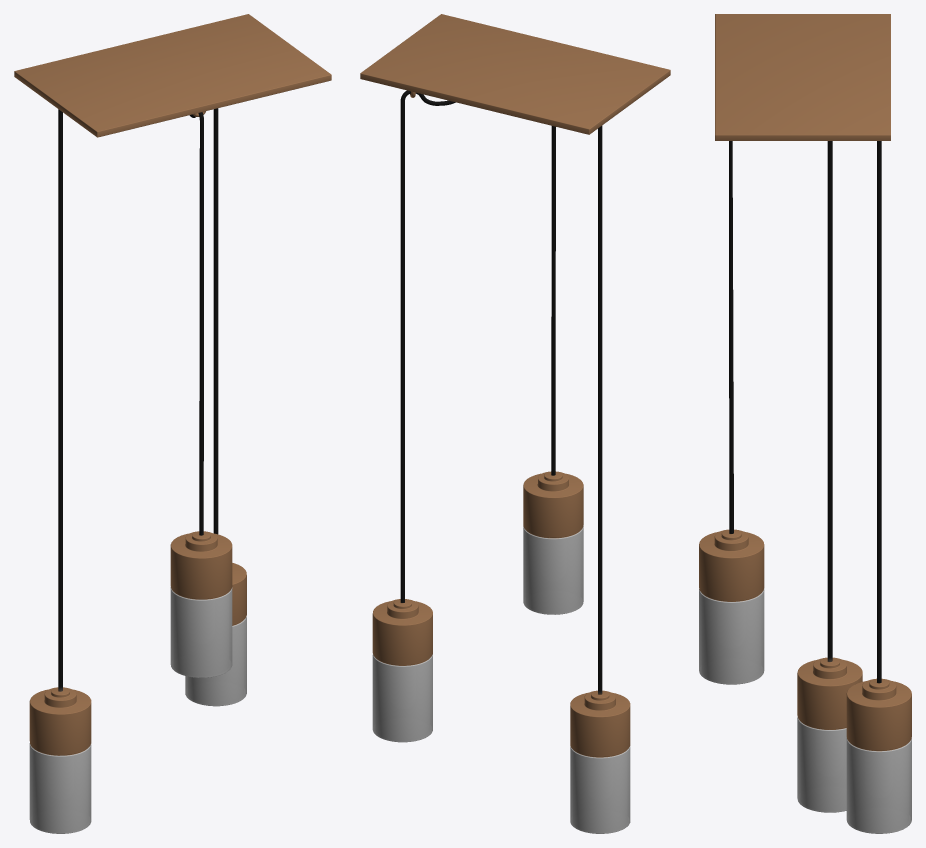
Rendered from chandelier.glb.
The picture shows the model from 3 angles, left to right: view 1: azimuth 30°, elevation 25°; view 2: azimuth 150°, elevation 25°; view 3: azimuth 270°, elevation 25°; orthographic projection. The views are drawn at different scales.
Parts seen in each view (by area): view 1: modern_chandelier; view 2: modern_chandelier; view 3: modern_chandelier.
Boxes of the visible parts, x1,y1,x2,y2 form: modern_chandelier: [14, 14, 331, 833]; modern_chandelier: [360, 14, 670, 833]; modern_chandelier: [699, 14, 911, 833].
Bounding box in the file's own units: 0.4173 × 1.2 × 0.2984.
1 material, 1 textured.
